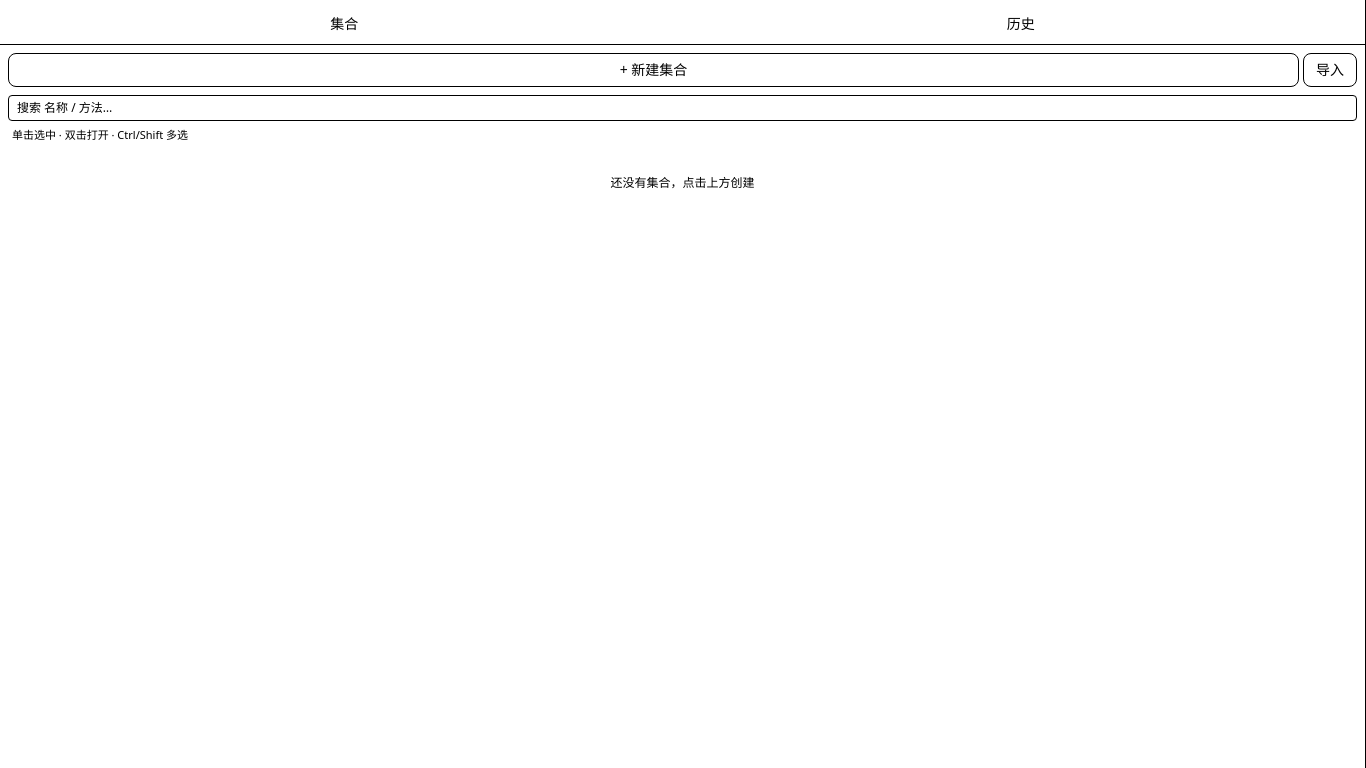
Test: HistoryList virtualized viewport › mounts a virtual scroller instead of rendering every loaded row
The width and height of the screenshot is (1366, 768).
What coordinates should you click on to do the following:
click the button "历史"
I would click on:
 (1021, 24)
Its box is left=684, top=8, right=1357, bottom=40.
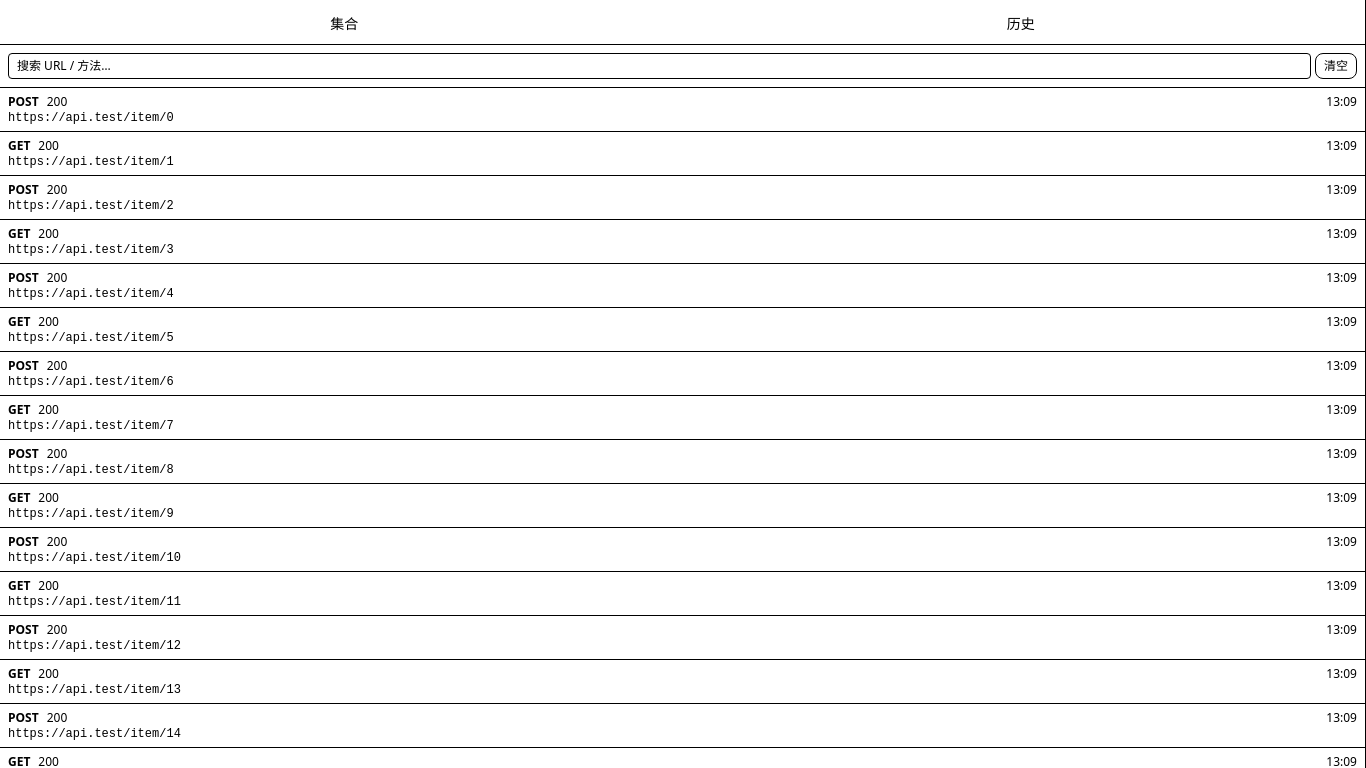
Expected: the text "https://api.test/item/0" is shown, left=8, top=111, right=174, bottom=125
Expected: the element that starts with "POST" is shown
Expected: the element titled "点击重放" is shown, left=0, top=88, right=1365, bottom=132
